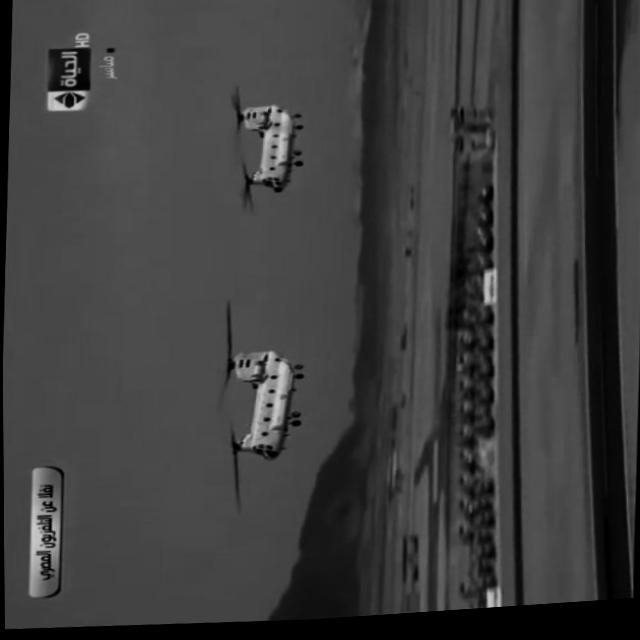helikopter: (201, 334, 307, 496), (229, 90, 318, 220)
